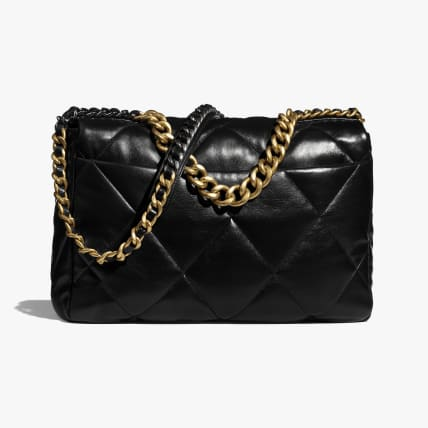channel: (31, 95, 406, 345), (135, 112, 292, 212)
